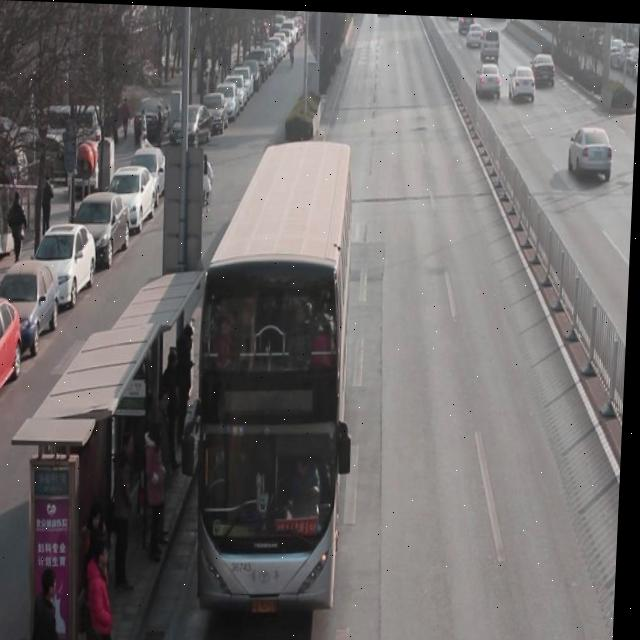car: (569, 118, 617, 178), (509, 58, 538, 99), (475, 57, 503, 97), (530, 46, 558, 83), (466, 16, 485, 45)
truck: (480, 22, 501, 57)
van: (193, 144, 354, 612)
